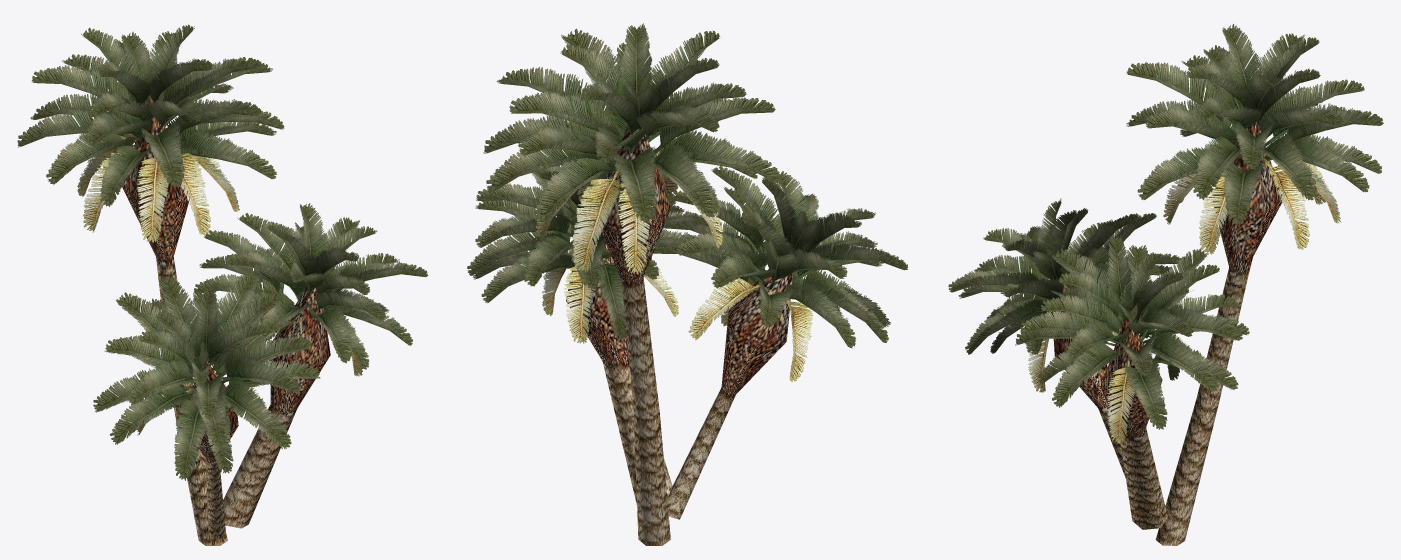
Rendered from flora_tree_cretan_date_palm_patch_v3.glb.
The picture shows the model from 3 angles, left to right: view 1: azimuth 30°, elevation 25°; view 2: azimuth 150°, elevation 25°; view 3: azimuth 270°, elevation 25°; orthographic projection. The views are drawn at different scales.
Visible parts, largest first — view 1: flora_tree_cretan_date_palm_patch_v3_part0; view 2: flora_tree_cretan_date_palm_patch_v3_part0; view 3: flora_tree_cretan_date_palm_patch_v3_part0.
Boxes of the visible parts, x1=… form: flora_tree_cretan_date_palm_patch_v3_part0: x1=17, y1=24, x2=428, y2=545; flora_tree_cretan_date_palm_patch_v3_part0: x1=467, y1=23, x2=907, y2=545; flora_tree_cretan_date_palm_patch_v3_part0: x1=948, y1=24, x2=1383, y2=545.
Size of the model in its own units: 12.91 by 17.73 by 14.7.
Materials: 1 (1 with a texture image).
